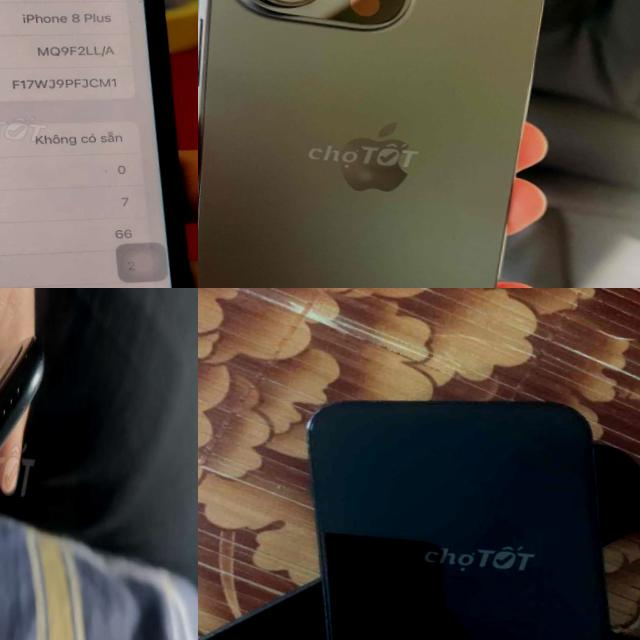scratch: (15, 343, 36, 372)
